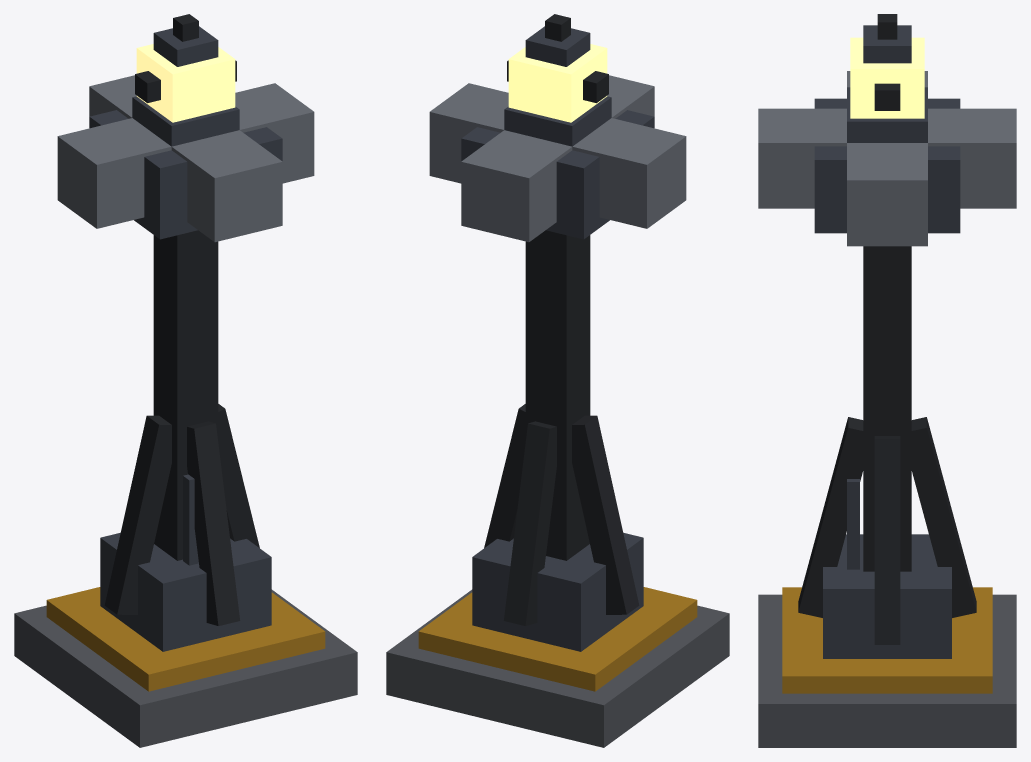
The model's file is muster_siren.glb.
The picture shows the model from 3 angles, left to right: view 1: azimuth 30°, elevation 25°; view 2: azimuth 150°, elevation 25°; view 3: azimuth 270°, elevation 25°; orthographic projection. The views are drawn at different scales.
Parts seen in each view (by area): view 1: P00_Deck, P03_Mast, P01_Hazard, P02_Plinth, P11_Horn, P10_Horn, P05_Brace, P07_Brace, B00_Lamp, P08_Head, P09_Horn, P14_Collar (+6 smaller); view 2: P00_Deck, P03_Mast, P01_Hazard, P02_Plinth, P12_Horn, P10_Horn, P06_Brace, P05_Brace, B00_Lamp, P08_Head, P09_Horn, P14_Collar (+5 smaller); view 3: P00_Deck, P03_Mast, P01_Hazard, P02_Plinth, P09_Horn, P11_Horn, P12_Horn, P08_Head, P04_Brace, P06_Brace, P07_Brace, B00_Lamp (+5 smaller).
Part boxes in pixels (x1,y1,x2,y2): P00_Deck: (14,589,357,747); P03_Mast: (153,230,218,560); P01_Hazard: (46,587,325,691); P02_Plinth: (100,532,271,651); P11_Horn: (171,130,282,242); P10_Horn: (57,118,171,228); P05_Brace: (104,415,171,614); P07_Brace: (187,421,240,625); B00_Lamp: (136,44,235,122); P08_Head: (89,110,282,239); P09_Horn: (235,83,314,183); P14_Collar: (132,96,239,146); P00_Deck: (386,589,729,747); P03_Mast: (525,230,590,560); P01_Hazard: (418,587,697,691); P02_Plinth: (472,532,643,651); P12_Horn: (461,130,572,242); P10_Horn: (572,118,686,228); P06_Brace: (503,421,556,625); P05_Brace: (572,415,639,614); B00_Lamp: (508,44,607,122); P08_Head: (461,110,654,239); P09_Horn: (429,83,508,183); P14_Collar: (504,96,611,146); P00_Deck: (758,594,1016,747); P03_Mast: (863,246,911,571); P01_Hazard: (782,587,992,693); P02_Plinth: (823,534,951,658); P09_Horn: (847,143,927,246); P11_Horn: (758,108,846,208); P12_Horn: (928,108,1016,208); P08_Head: (814,98,960,233); P04_Brace: (874,436,900,644); P06_Brace: (911,417,976,617); P07_Brace: (798,417,863,617); B00_Lamp: (850,37,924,118).
Bounding box in the file's own units: 16 × 46.1 × 16.
